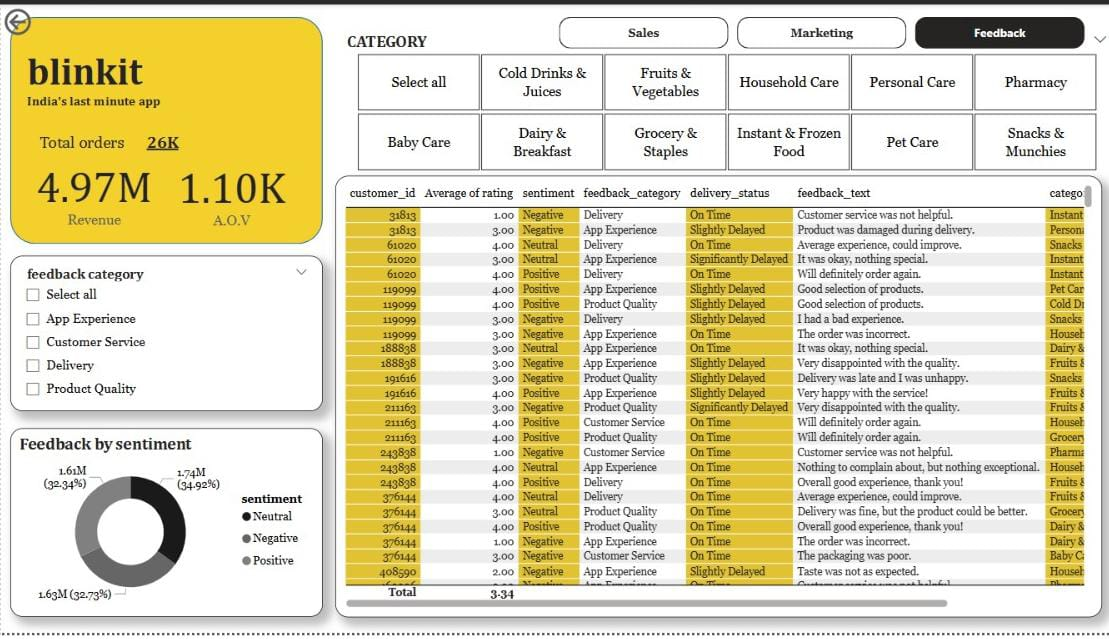

The page's visual inventory and layout, read from the dashboard file:
{"tool":"powerbi","page":{"name":"Feedback","canvas":[1280,720],"ordinal":2},"visuals":[{"type":"shape","box":[12,14,358,260],"z":0},{"type":"textbox","box":[25.6,46.3,193.3,86.3],"z":1000},{"type":"textbox","box":[39.9,132.6,178.9,47.9],"z":2000},{"type":"card","fields":{"Values":["Sum(blinkit_customers.total_orders)"]},"box":[123,135.8,124.6,44.7],"z":3000},{"type":"card","fields":{"Values":["blinkit_order_items.Revenue1"]},"box":[12.8,166.2,188.5,95.9],"z":4000},{"type":"card","fields":{"Values":["Avg(blinkit_customers.avg_order_value)"]},"box":[191.7,156.6,145.4,118.2],"z":5000},{"type":"slicer","fields":{"Values":["blinkit_products.category"]},"box":[383.4,25.6,896.3,171],"z":6000},{"type":"slicer","fields":{"Values":["blinkit_customer_feedback.feedback_category"]},"box":[12,288,358,178],"z":7000},{"type":"donutChart","title":"Feedback by sentiment","fields":{"Category":["blinkit_customer_feedback.sentiment"],"Y":["blinkit_order_items.Revenue1"]},"box":[12,486,358,216],"z":8000},{"type":"tableEx","fields":{"Values":["blinkit_customer_feedback.customer_id","Avg(blinkit_customer_feedback.rating)","blinkit_customer_feedback.sentiment","blinkit_customer_feedback.feedback_category","blinkit_orders.delivery_status","blinkit_customer_feedback.feedback_text","blinkit_products.category","blinkit_customer_feedback.feedback_date.Variation.Date Hierarchy.Year","blinkit_customer_feedback.feedback_date.Variation.Date Hierarchy.Month"]},"box":[383.9,196.8,878.3,505.9],"z":9000},{"type":"actionButton","box":[0,0,100,40],"z":10000},{"type":"pageNavigator","box":[640,14,602,36],"z":11000}]}

Visuals, with their boxes in screenshot pixels (x1, y1, x2, y2), scaled from the page's 1280x720 canvas onto the 1109x639 screenshot:
shape: [10,12,321,243]
textbox: [22,41,190,118]
textbox: [35,118,190,160]
card - Sum(blinkit_customers.total_orders): [107,121,215,160]
card - blinkit_order_items.Revenue1: [11,148,174,233]
card - Avg(blinkit_customers.avg_order_value): [166,139,292,244]
slicer - blinkit_products.category: [332,23,1108,174]
slicer - blinkit_customer_feedback.feedback_category: [10,256,321,414]
"Feedback by sentiment" donutChart: [10,431,321,623]
tableEx - blinkit_customer_feedback.customer_id x Avg(blinkit_customer_feedback.rating): [333,175,1094,624]
actionButton: [0,0,87,36]
pageNavigator: [554,12,1076,44]
